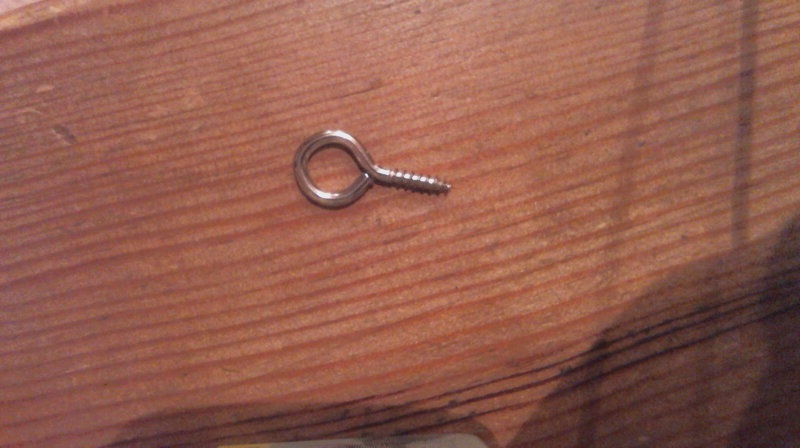O001: (291, 125, 455, 212)
